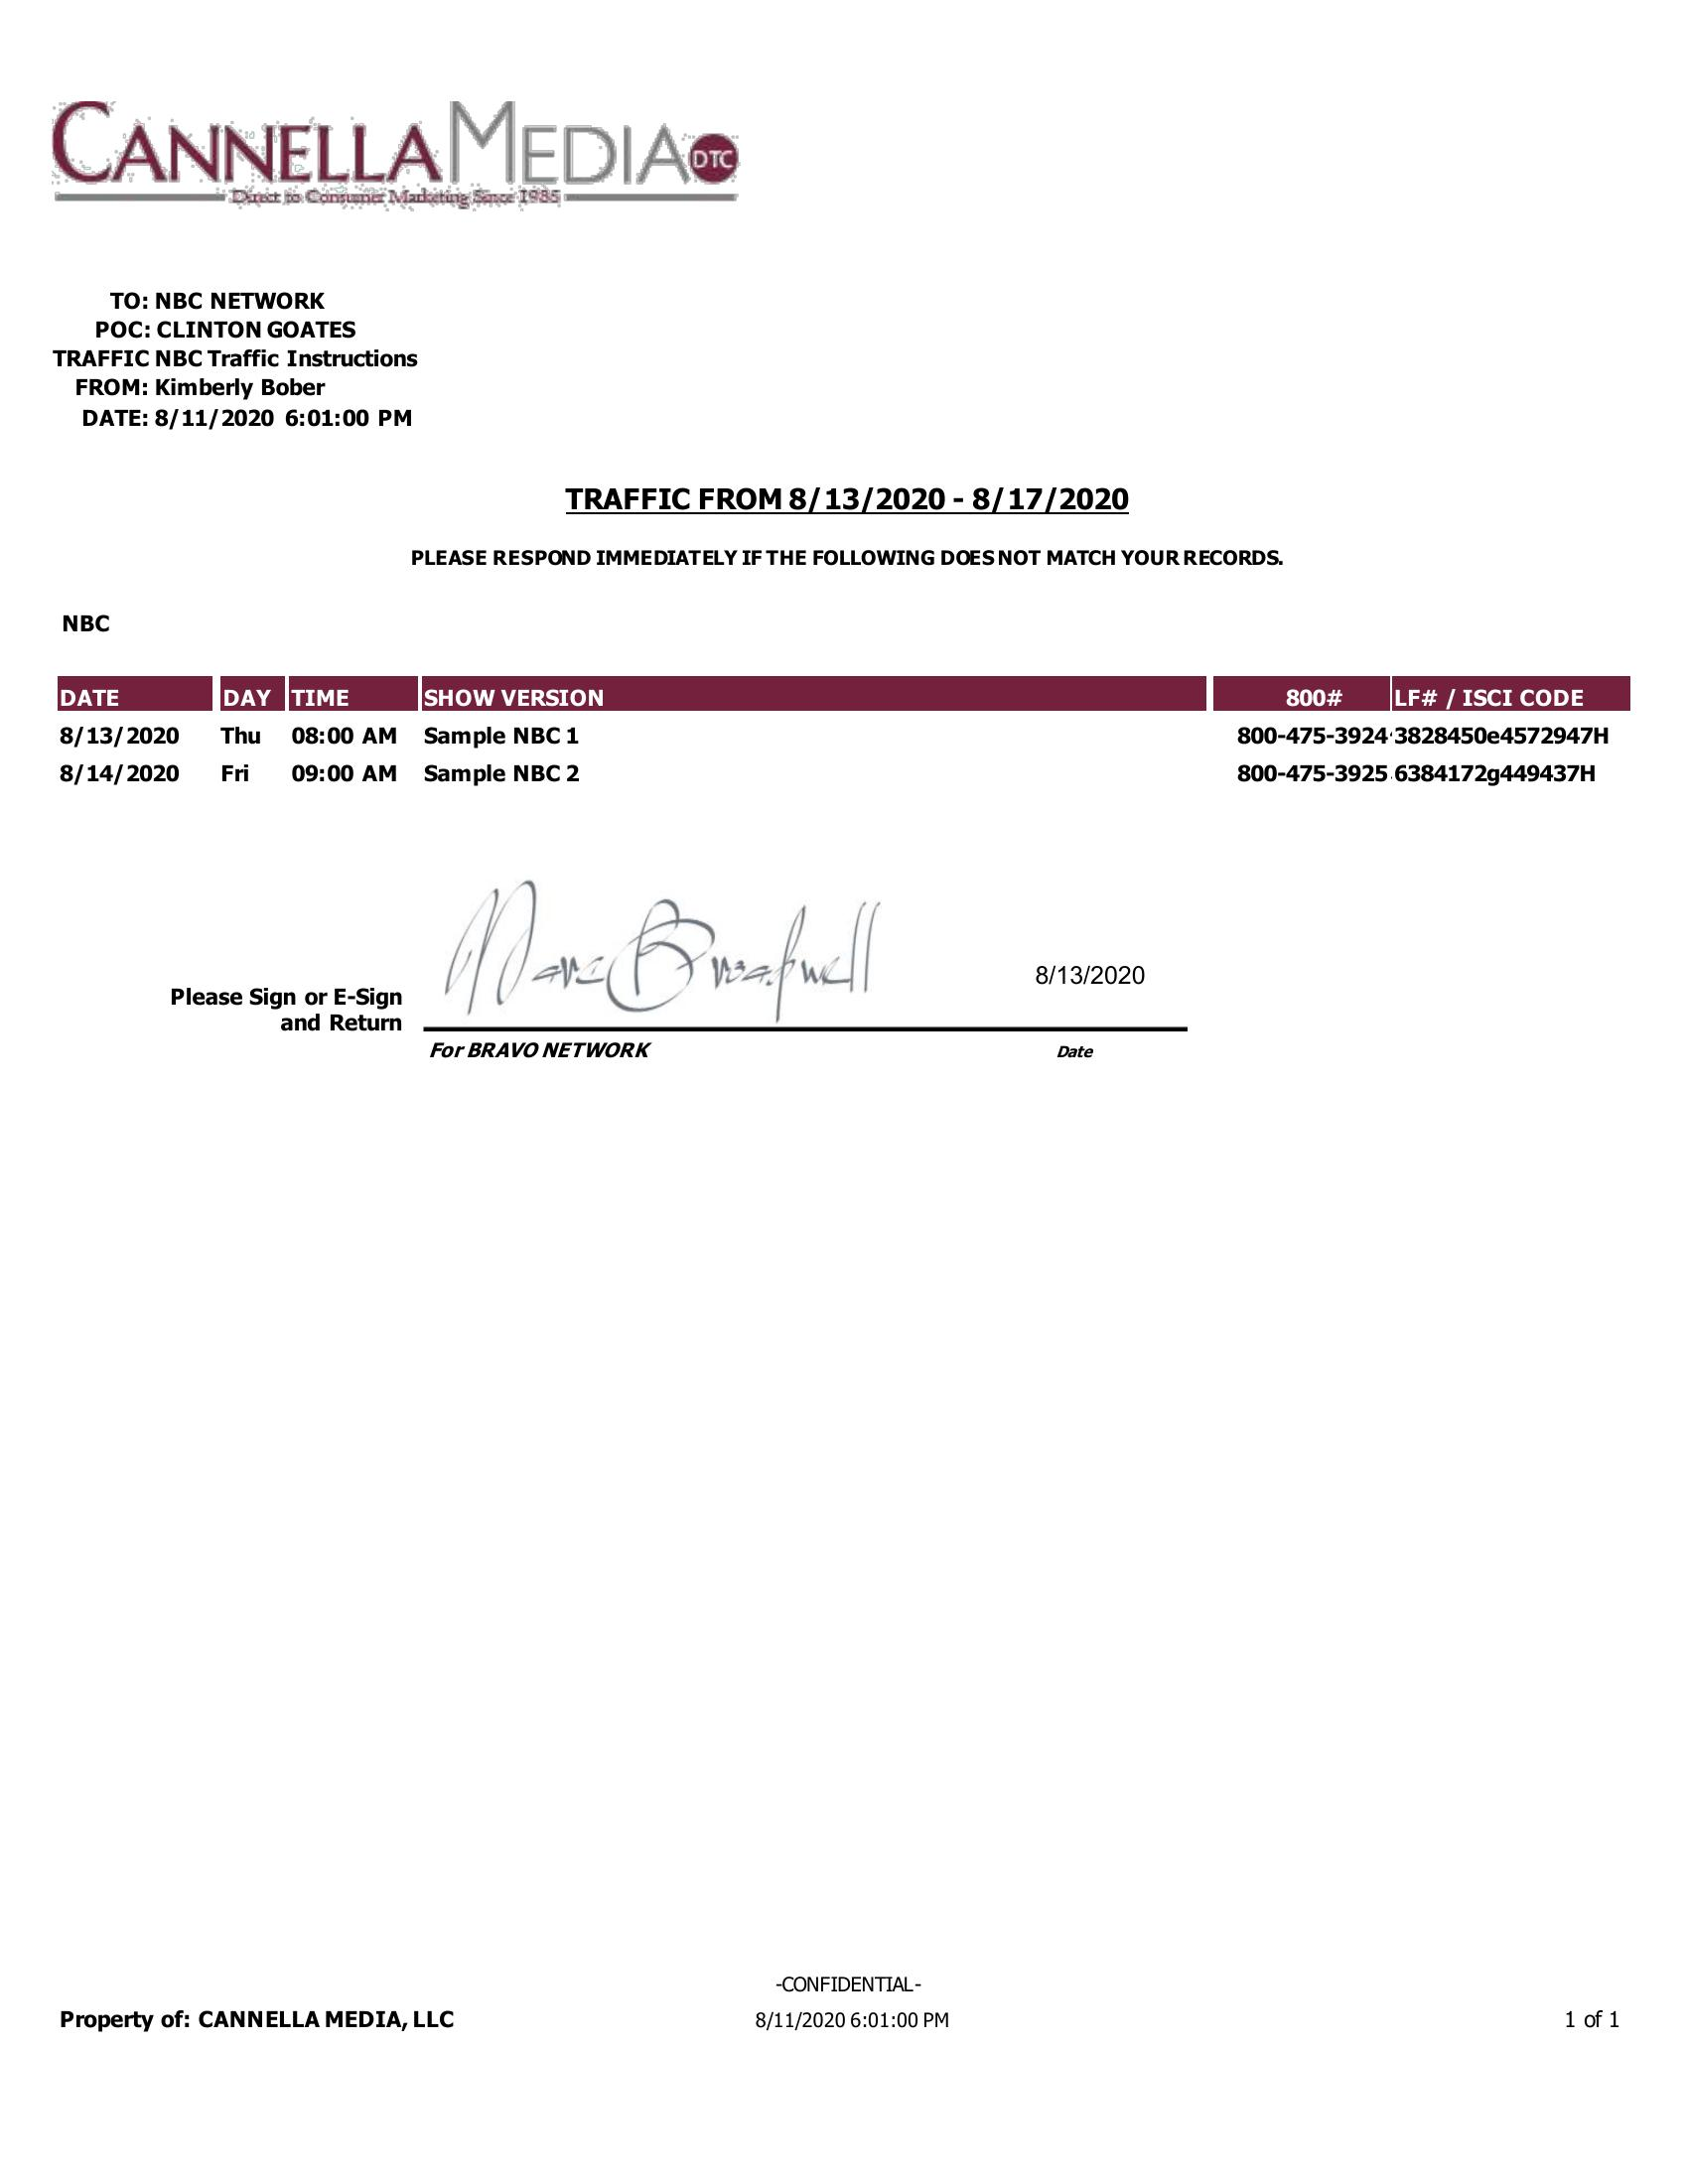table: (30, 659, 1651, 824)
